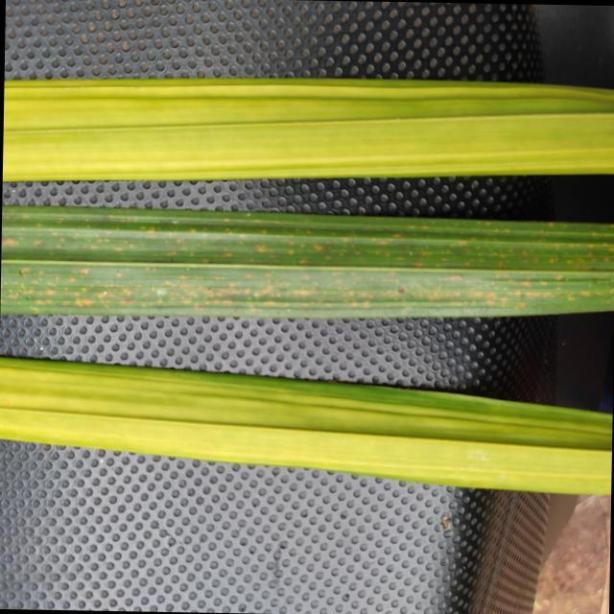nitrogen: (0, 355, 614, 504), (6, 70, 603, 182), (0, 214, 614, 320)
